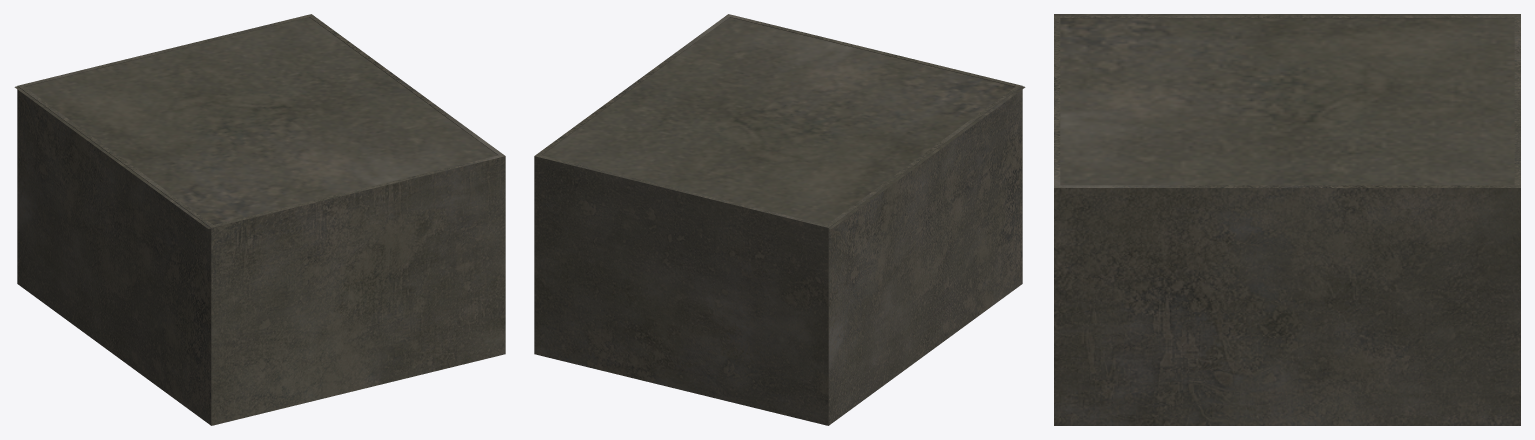
Rendered from RECICLAJE_OPACO.fbx.
The picture shows the model from 3 angles, left to right: view 1: azimuth 30°, elevation 25°; view 2: azimuth 150°, elevation 25°; view 3: azimuth 270°, elevation 25°; orthographic projection. The views are drawn at different scales.
Visible parts, largest first — view 1: Rec_Paredes, Rec_Techo; view 2: Rec_Paredes, Rec_Techo; view 3: Rec_Paredes, Rec_Techo.
Part boxes in pixels (box(x1,y1,x2,y2)): Rec_Paredes: box(17, 14, 505, 425); Rec_Techo: box(14, 17, 497, 228); Rec_Paredes: box(534, 14, 1022, 425); Rec_Techo: box(542, 17, 1025, 228); Rec_Paredes: box(1054, 15, 1520, 425); Rec_Techo: box(1054, 14, 1520, 185).
Size of the model in its own units: 707 by 450 by 800.
4 materials, 4 textured.
